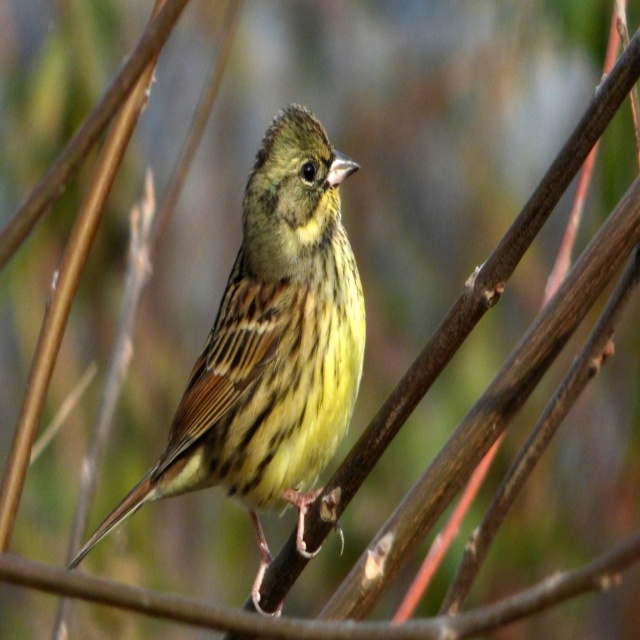Sparrow: (65, 103, 366, 618)
